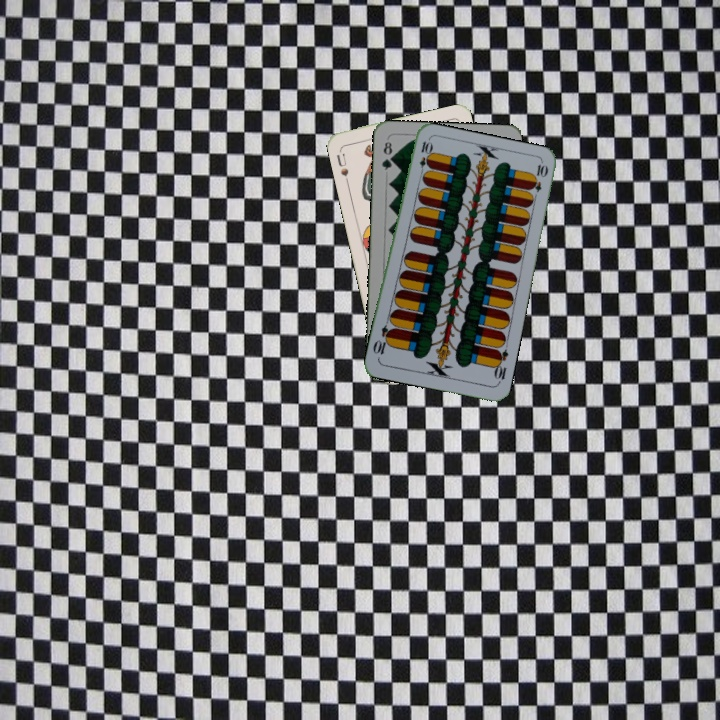E10: (490, 346, 511, 386), (415, 137, 433, 178)
G8: (377, 135, 396, 173)
SU: (332, 150, 351, 186)
